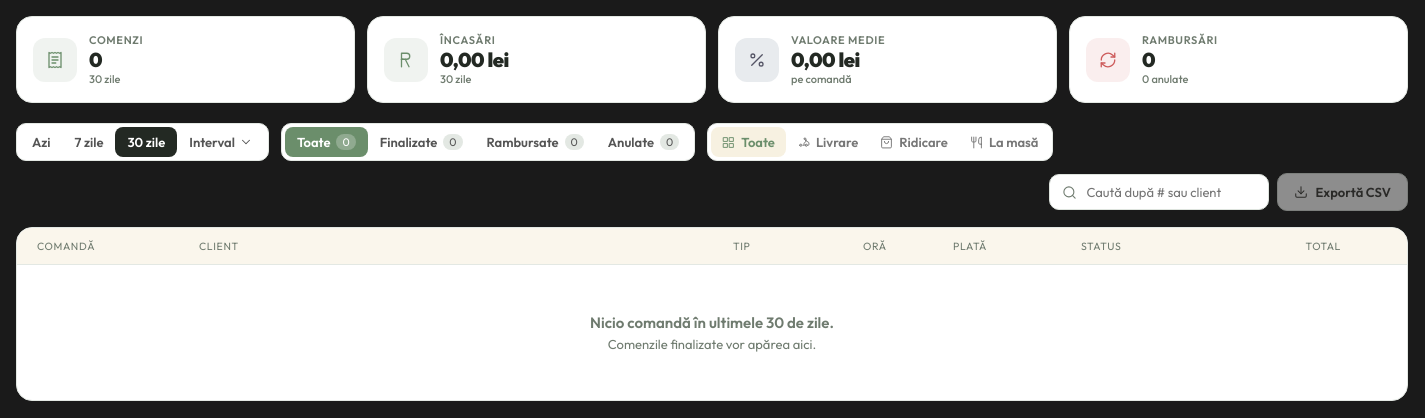
Test: Custom range popover wiring — D-03/D-04 (09-05) › the popover is absent on mount; clicking the Custom pill opens it, clicking it again closes it
The image size is (1425, 418).
Click the button with test id "history-period-pill" showing "Interval" at x=221, y=142, box [177,127,265,157]
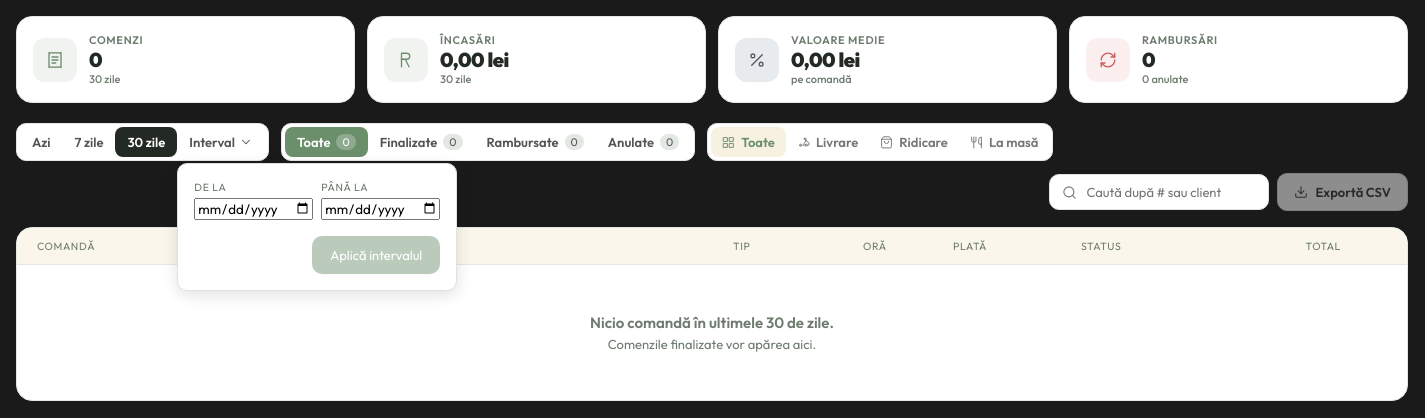
Now the element with test id "history-range-popover" is shown, box [177,163,457,291]
Click the button with test id "history-period-pill" showing "Interval" at x=221, y=142, box [177,127,265,157]
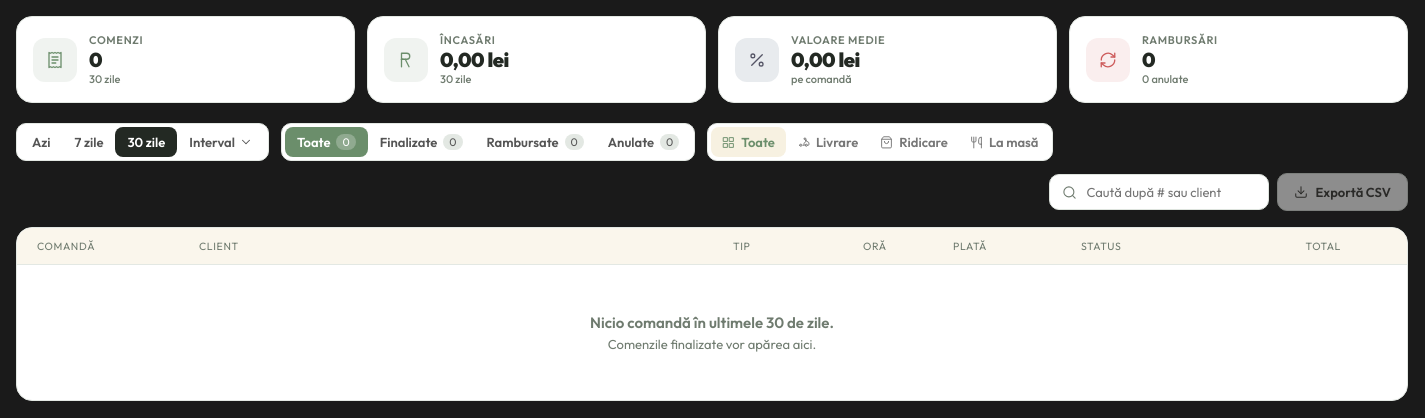
Now the element with test id "history-range-popover" is gone
